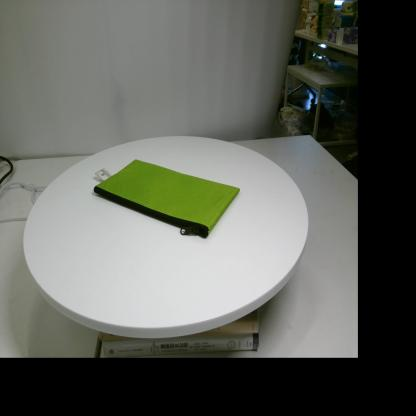Stationery: (94, 159, 240, 238)
